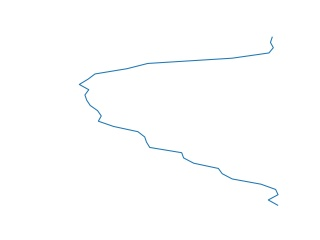mouthBar: (74, 36, 286, 211)
